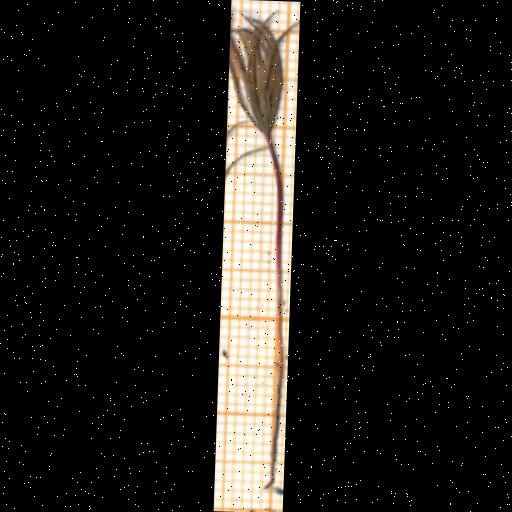flowerPinus: (227, 16, 296, 133)
stemPinus: (266, 129, 283, 463)
